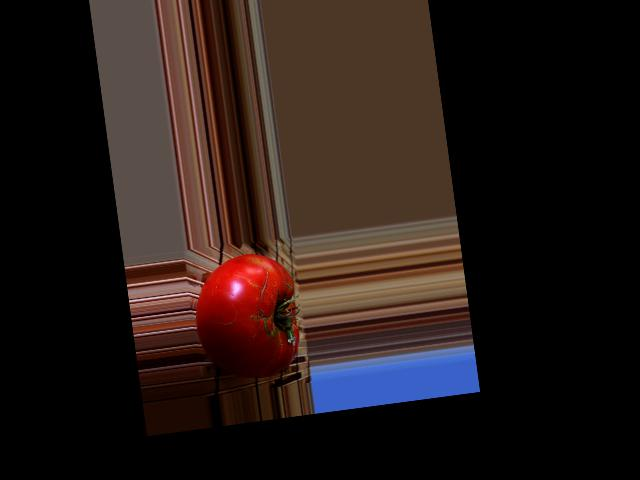tomato: (189, 249, 305, 385)
